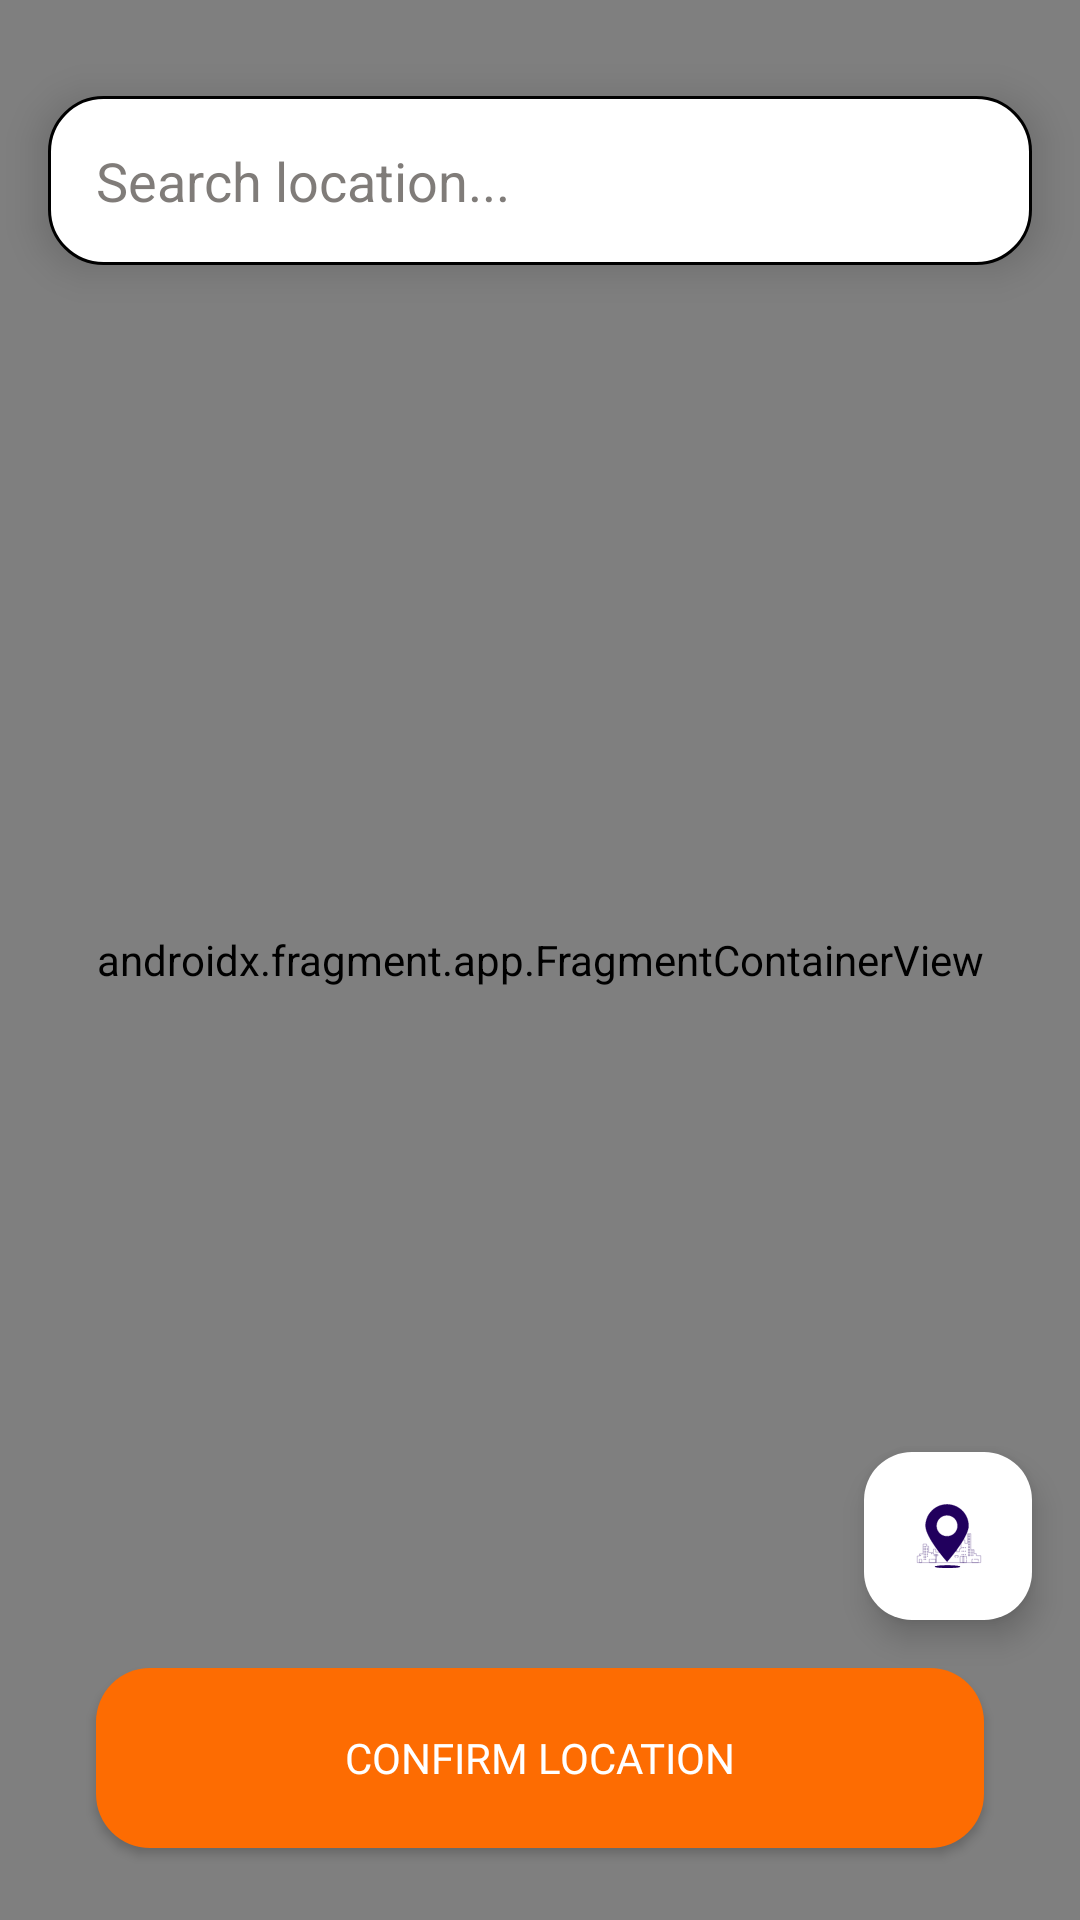

Screen size 1080x1920. Icon name, then its box in pixels as (x1, y1, x2, y2):
Current Location: (864, 1452, 1032, 1620)
